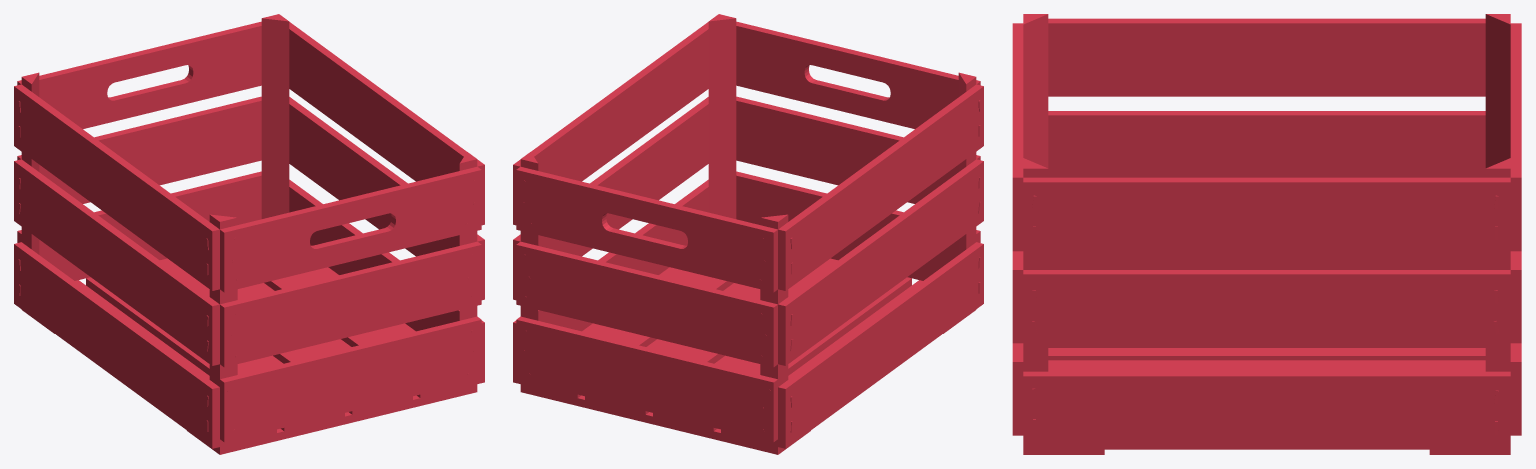
File: fhfhfboxxxxxxxse.fbx
3 views of the same model, side by side, from view 1: azimuth 30°, elevation 25°; view 2: azimuth 150°, elevation 25°; view 3: azimuth 270°, elevation 25° (orthographic). The views are drawn at different scales.
Parts seen in each view (by area): view 1: Caisse.001; view 2: Caisse.001; view 3: Caisse.001.
Boxes of the visible parts, bbox=[...] form: Caisse.001: bbox=[14, 14, 484, 454]; Caisse.001: bbox=[513, 14, 983, 454]; Caisse.001: bbox=[1012, 14, 1521, 454].
Bounding box in the file's own units: 160 × 130 × 209.
